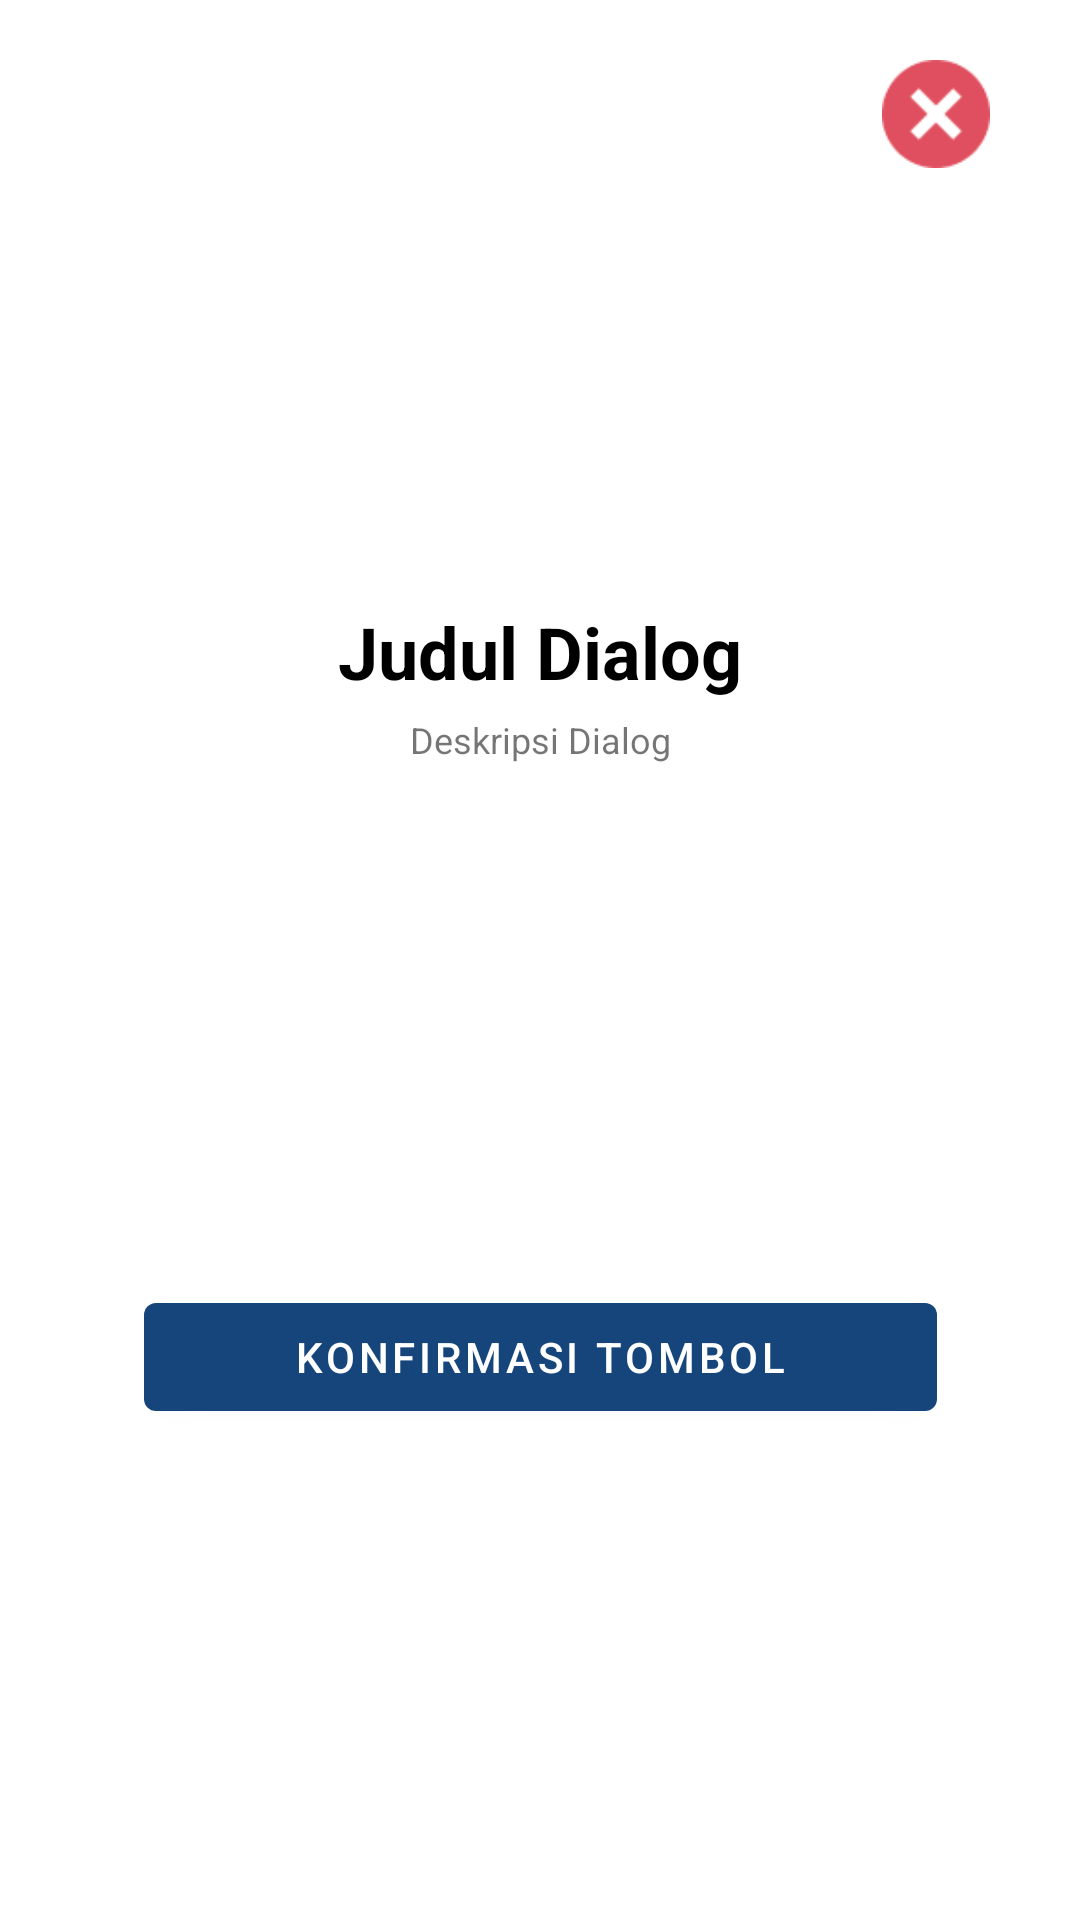

Screen size 1080 × 1920. Icon name, then its box in pixels as (x1,y1,x2,y2):
close: (882,60,990,168)
